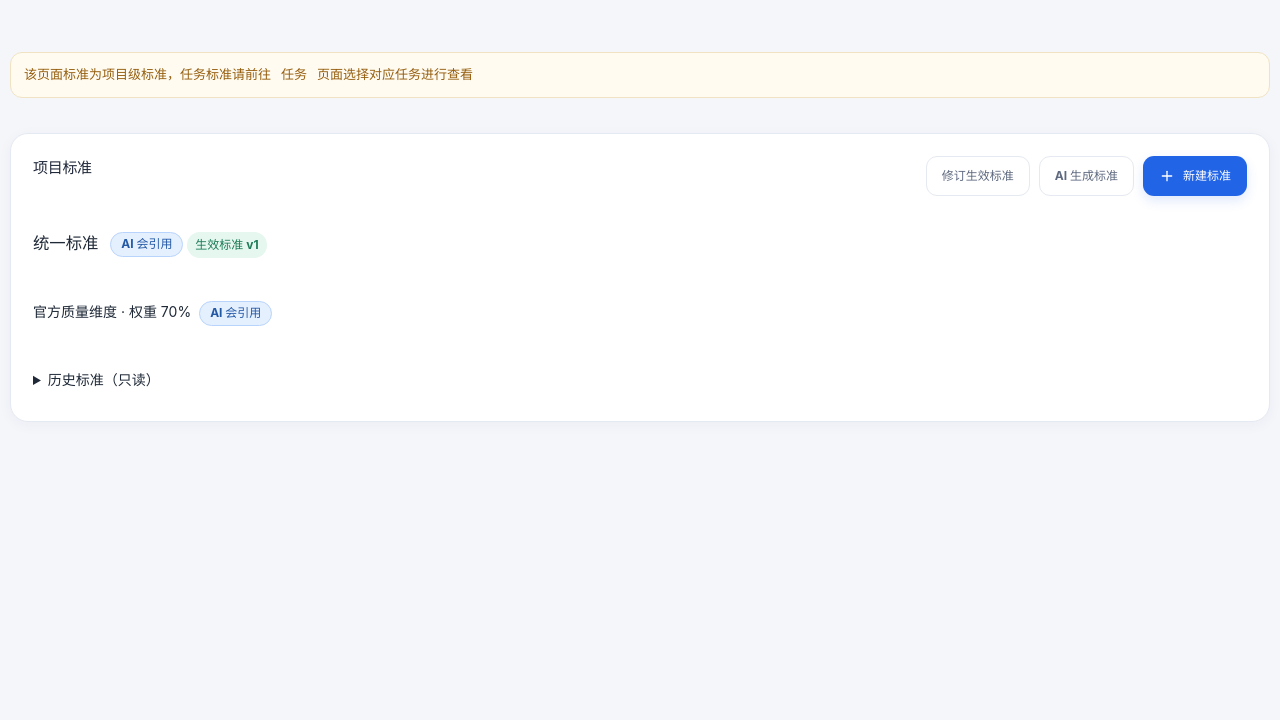
Test: preserves unmapped existing rubric dimensions in the same editor while keeping internal keys hidden
The image size is (1280, 720).
Click the button "修订生效标准" at (978, 176), box [926, 156, 1030, 196]
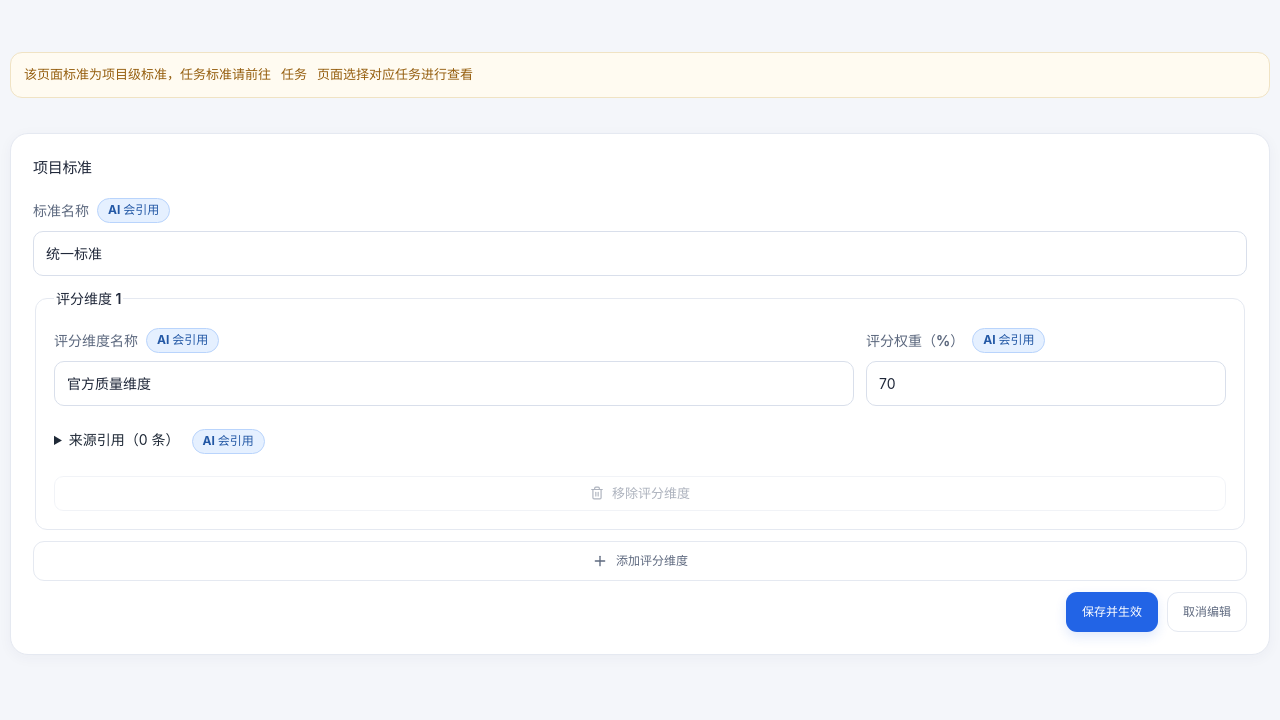
Result: the field labelled "评分维度名称" holds "官方质量维度" at [54, 361, 854, 406]
Result: the number field labelled "评分权重（%）" holds "70" at [866, 361, 1226, 406]
